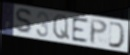3: (36, 11, 50, 38)
D: (107, 20, 126, 50)
E: (71, 16, 89, 44)
P: (89, 18, 109, 46)
Q: (52, 14, 71, 42)
S: (14, 7, 34, 35)
